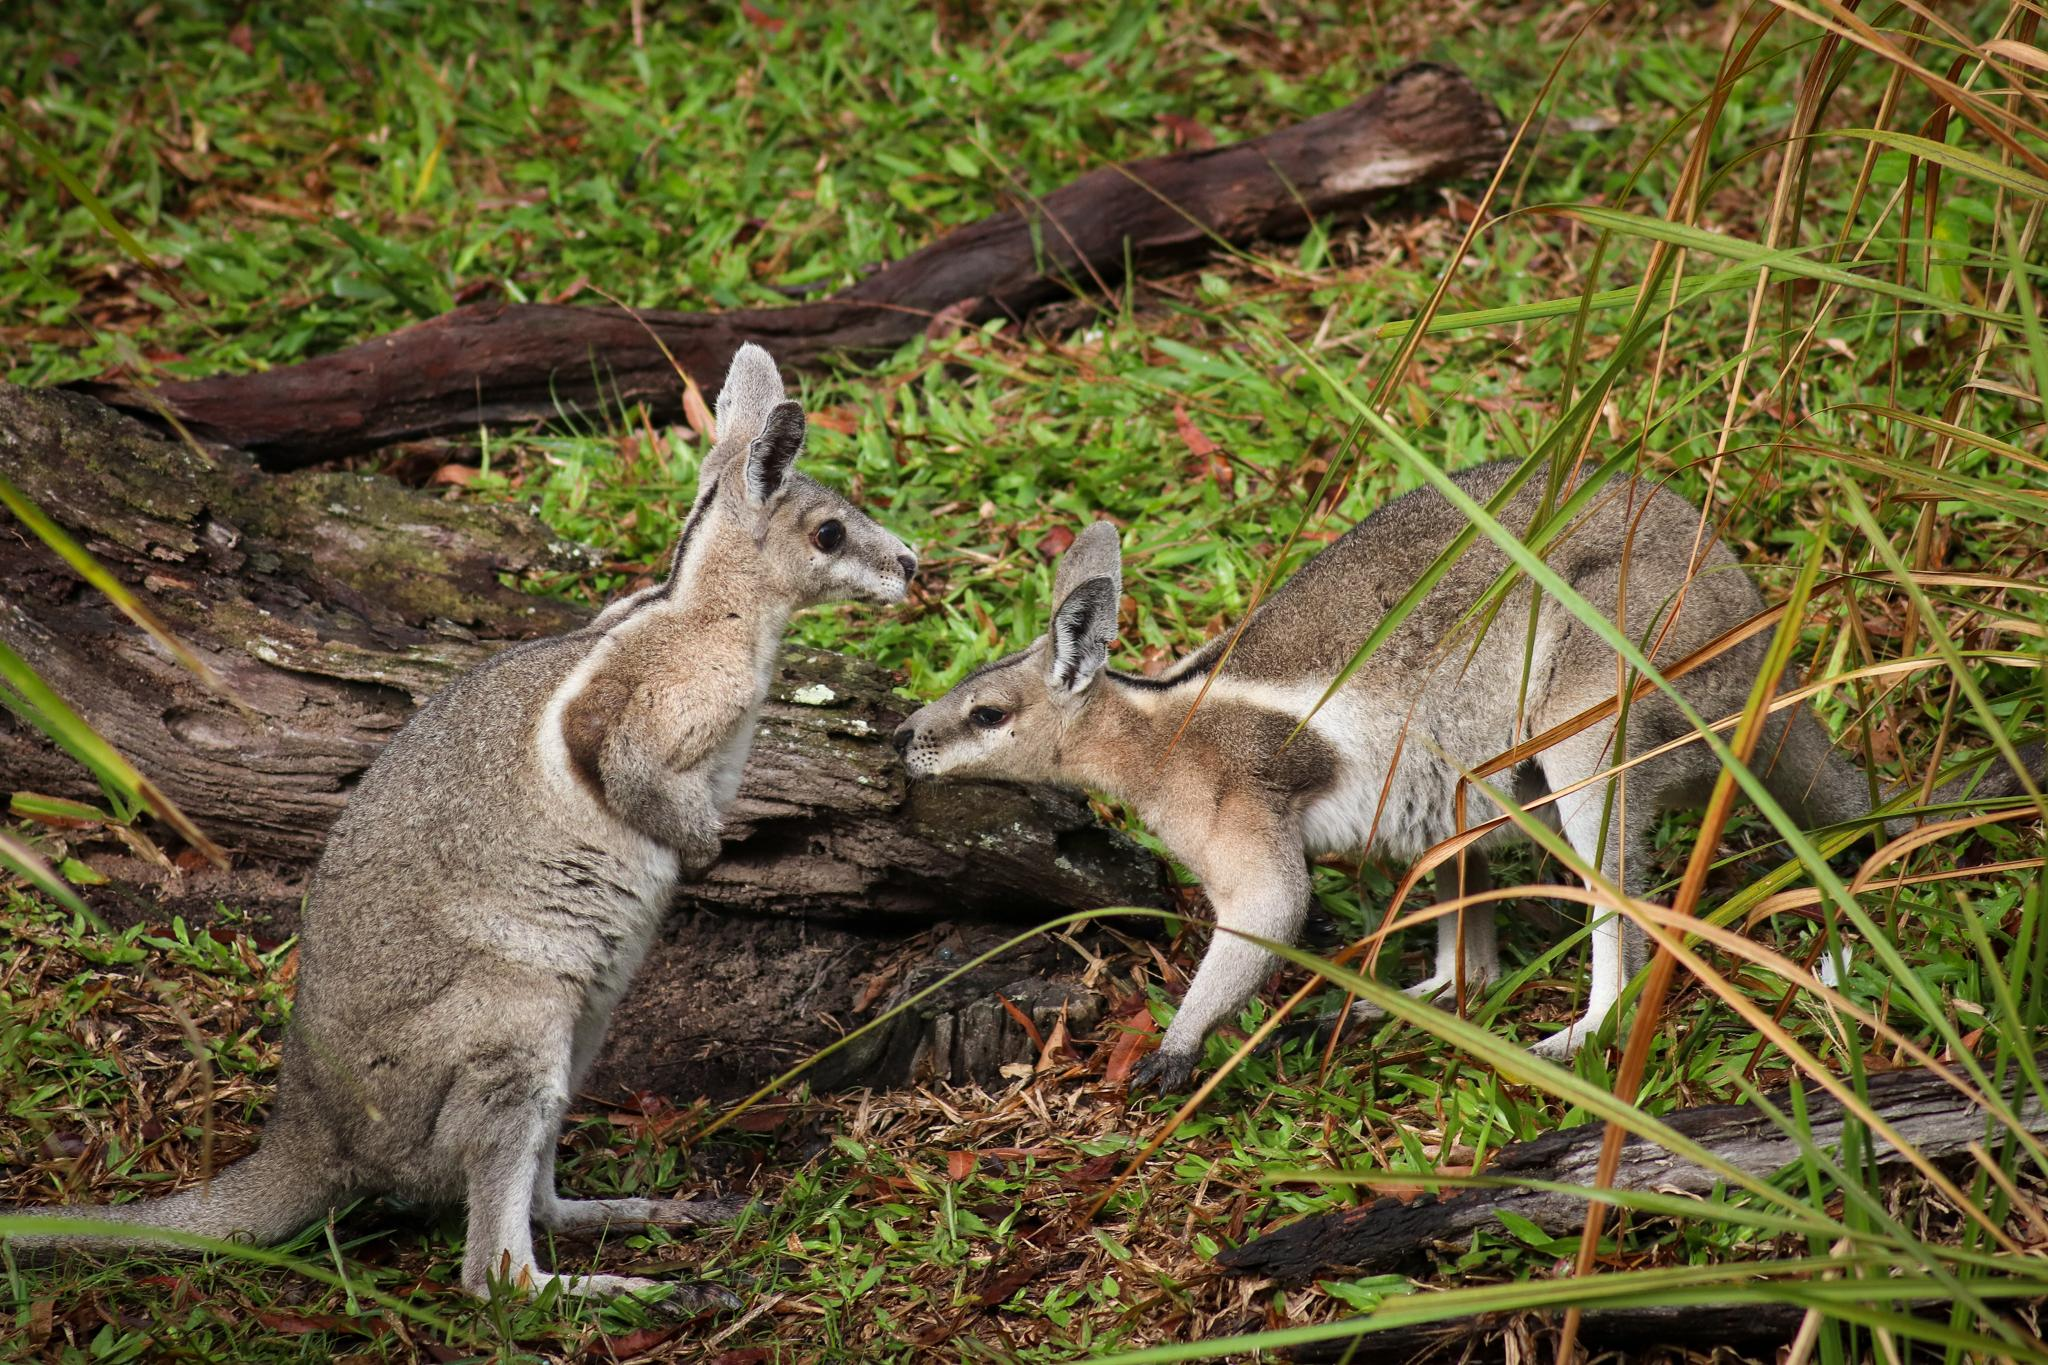Bridled-nail-tail wallaby: (0, 341, 917, 1319), (895, 449, 2048, 1095)
